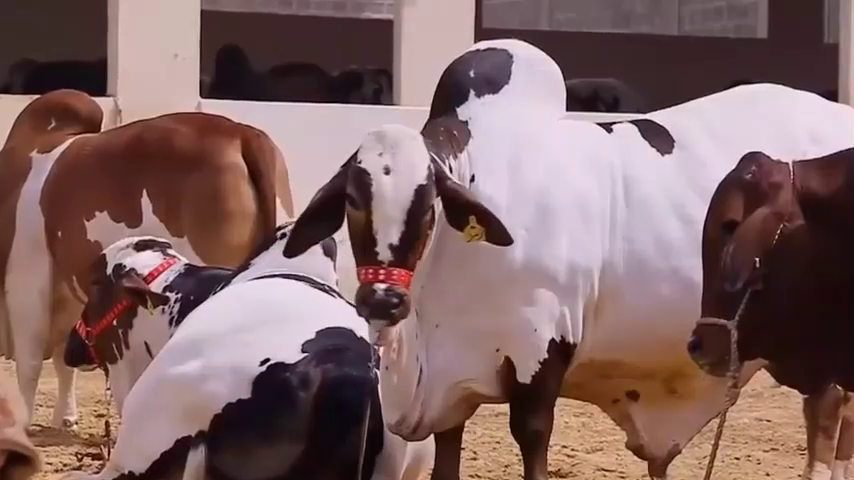bo: (246, 28, 854, 480), (1, 78, 307, 445), (45, 211, 461, 480), (687, 145, 854, 475)
